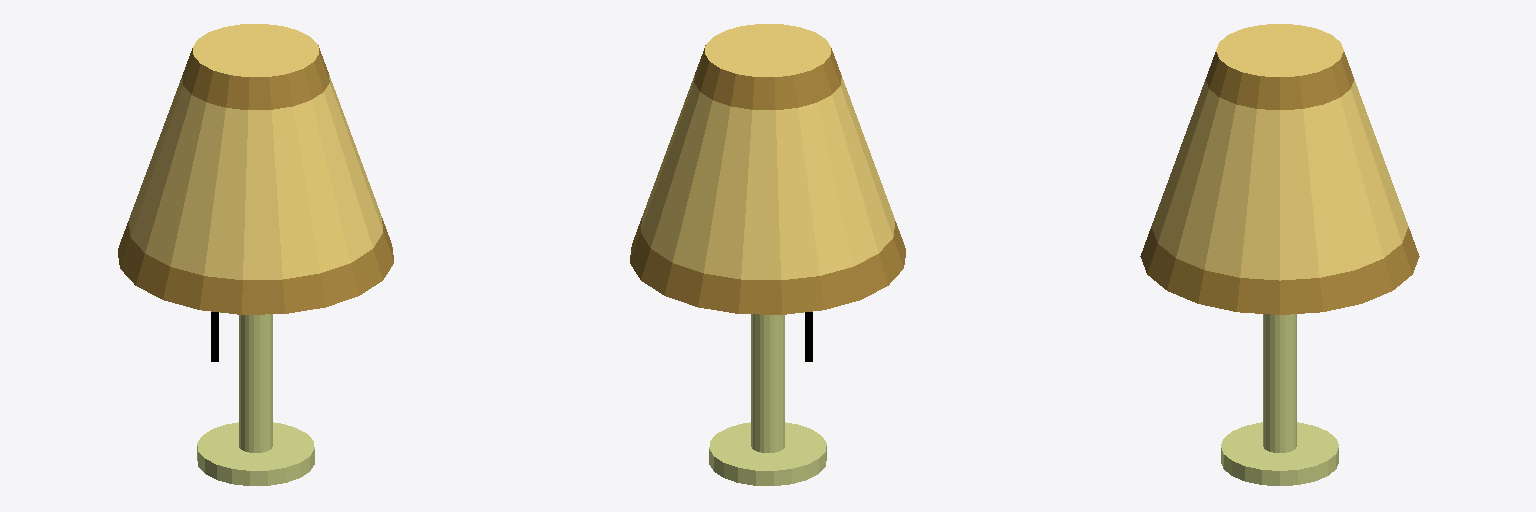
3 views of the same model, side by side, from view 1: azimuth 30°, elevation 25°; view 2: azimuth 150°, elevation 25°; view 3: azimuth 270°, elevation 25° (orthographic).
Visible parts, largest first — view 1: polySurface311; view 2: polySurface311; view 3: polySurface311.
Boxes of the visible parts, <box> form: polySurface311: <box>118,24,393,485</box>; polySurface311: <box>630,24,905,485</box>; polySurface311: <box>1140,24,1419,485</box>.
Size of the model in its own units: 0.3283 by 0.5352 by 0.3297.
6 materials, 4 textured.